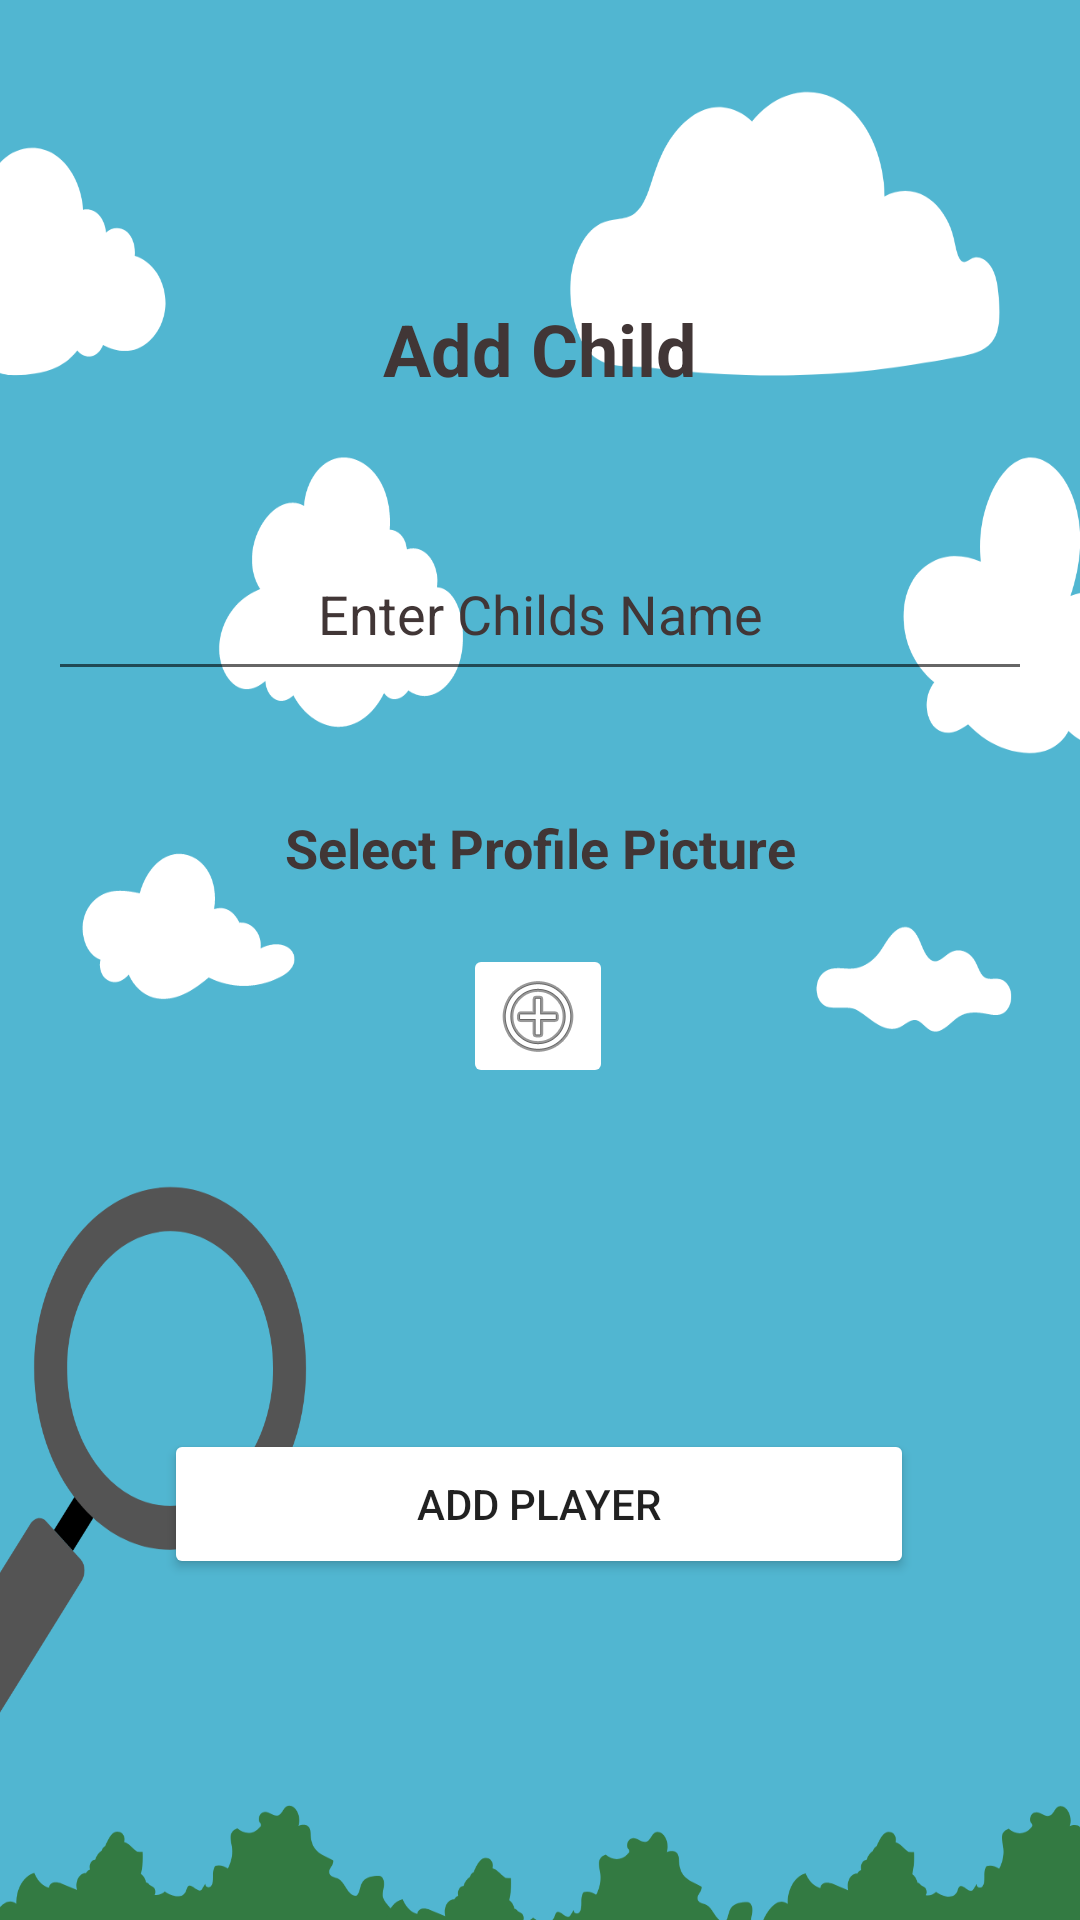

Icon bounding boxes for this 1080px x 1920px phone screenshot, format (x1, y1, x2, y2):
add: (475, 962, 601, 1070)
